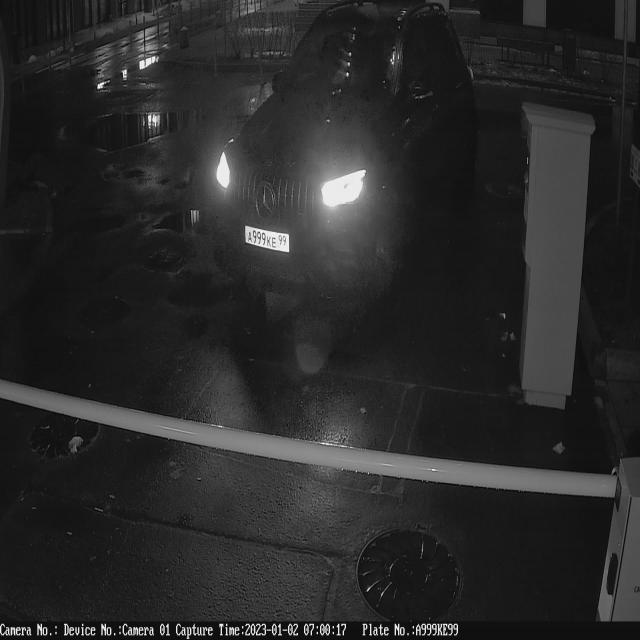car-plate-numbers: (244, 222, 294, 256)
